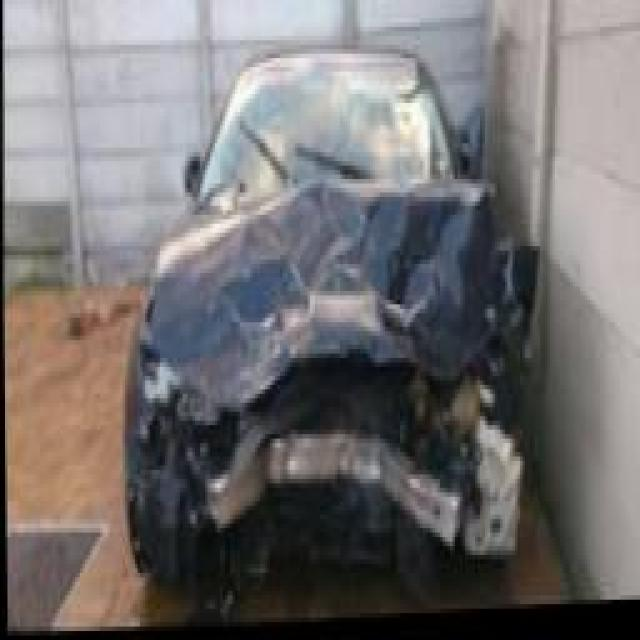Bonnet: (154, 178, 497, 408)
Bumper: (127, 406, 491, 609)
Light: (139, 349, 211, 444), (434, 337, 495, 422)
